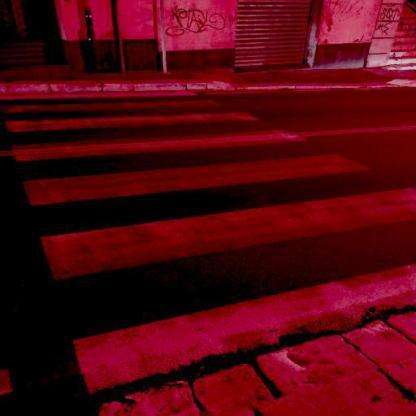crosswalk: (6, 126, 376, 216)
